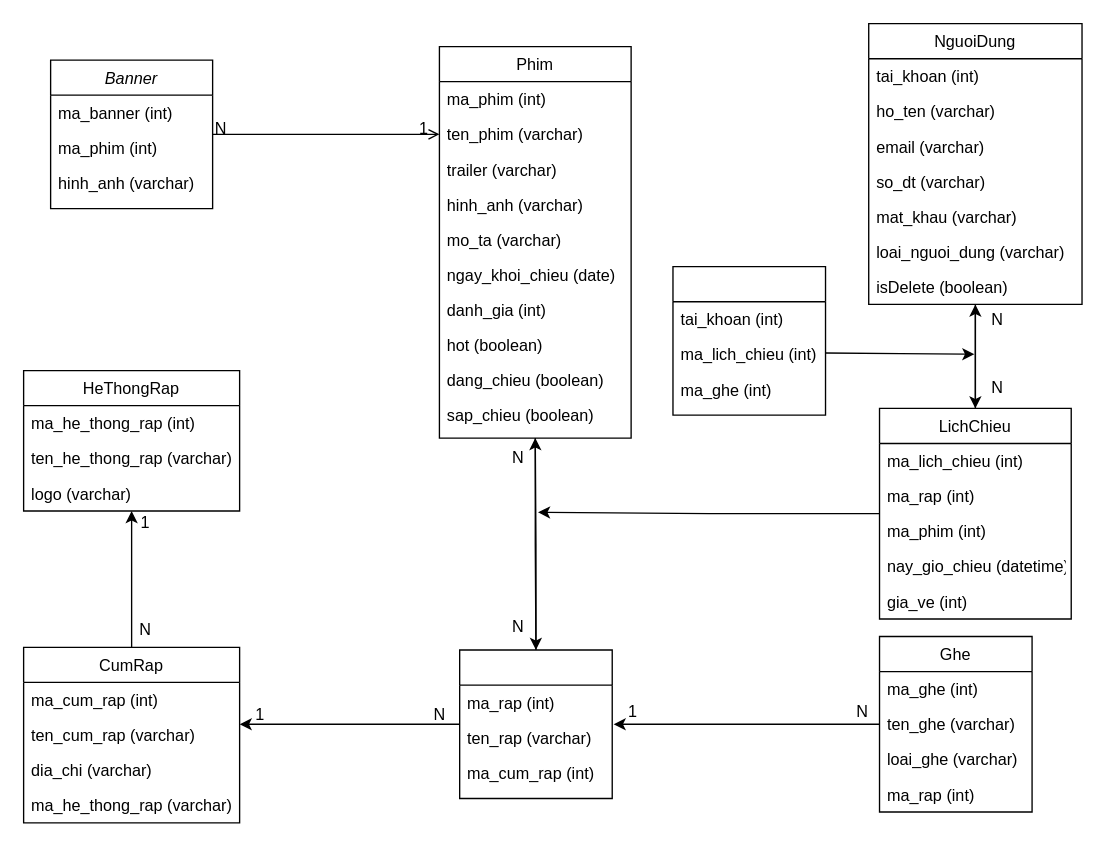
The diagram is 1106 pixels wide and 851 high, and some of its shapes have lost their labels. The shapes that lost their labels are listed below. From the top down, each one's box as (x1, y1, x2, y2) in pixels, then its label:
(672, 265, 826, 415): DatVe
(458, 649, 612, 799): RapPhim
